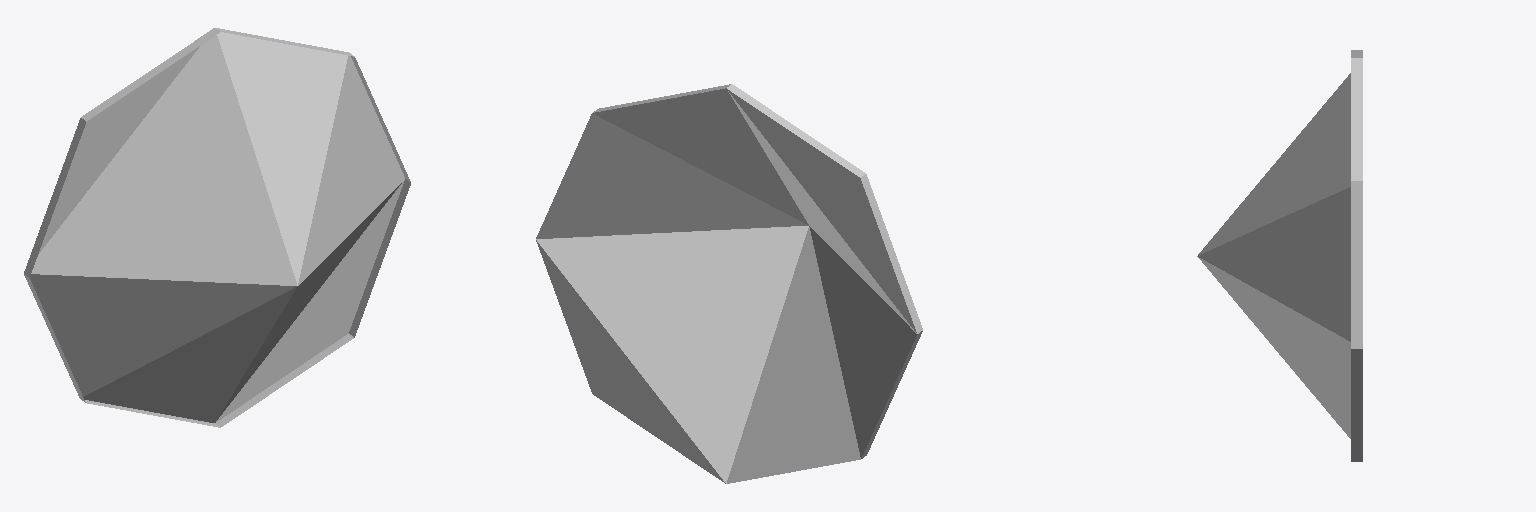
The model's file is portal.obj.
3 views of the same model, side by side, from view 1: azimuth 30°, elevation 25°; view 2: azimuth 150°, elevation 25°; view 3: azimuth 270°, elevation 25° (orthographic).
Parts seen in each view (by area): view 1: Plane.001; view 2: Plane.001; view 3: Plane.001.
Part boxes in pixels (bbox=[...]): Plane.001: bbox=[24, 28, 410, 427]; Plane.001: bbox=[536, 84, 922, 483]; Plane.001: bbox=[1197, 50, 1362, 461].
Size of the model in its own units: 2.16 by 2.14 by 0.8129.